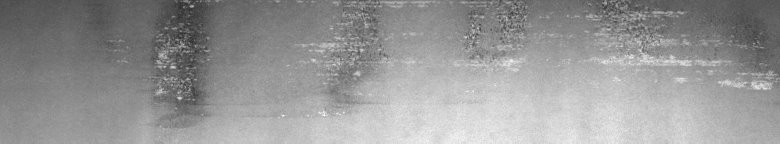hc: (108, 4, 212, 108)
